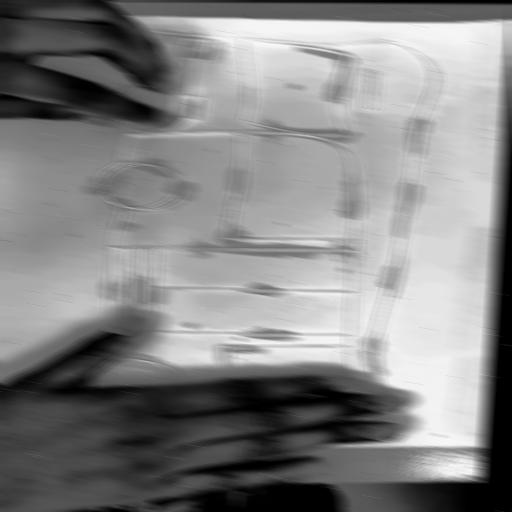bus: (64, 9, 446, 469)
